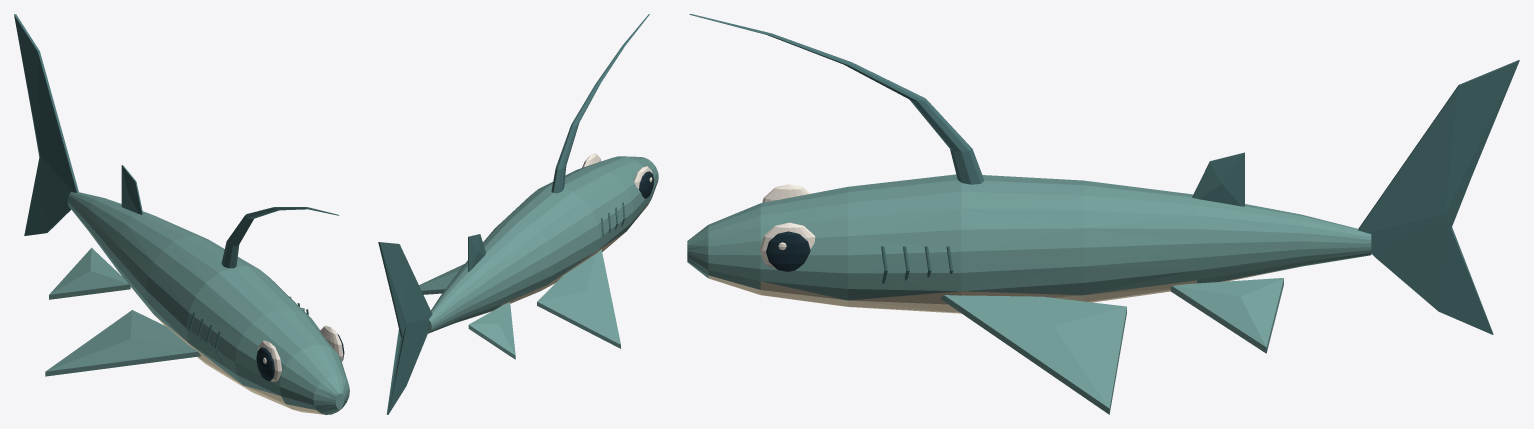
File: falcatus.glb
3 views of the same model, side by side, from view 1: azimuth 30°, elevation 25°; view 2: azimuth 150°, elevation 25°; view 3: azimuth 270°, elevation 25° (orthographic). The views are drawn at different scales.
Visible parts, largest first — view 1: fusiform-body, heterocercal-caudal, left-pectoral, left-pelvic, male-forward-sword-spine, posterior-dorsal, left-eye, right-eye-rim, left-eye-rim; view 2: fusiform-body, heterocercal-caudal, left-pectoral, left-pelvic, male-forward-sword-spine, right-pectoral, posterior-dorsal, left-eye; view 3: fusiform-body, heterocercal-caudal, right-pectoral, right-pelvic, male-forward-sword-spine, posterior-dorsal, right-eye.
Boxes of the visible parts, left/top/right/bottom form: fusiform-body: left=67, top=192, right=349, bottom=414; heterocercal-caudal: left=14, top=14, right=78, bottom=235; left-pectoral: left=45, top=310, right=201, bottom=376; left-pelvic: left=49, top=247, right=130, bottom=299; male-forward-sword-spine: left=221, top=207, right=339, bottom=268; posterior-dorsal: left=121, top=165, right=143, bottom=214; left-eye: left=256, top=347, right=274, bottom=381; right-eye-rim: left=320, top=325, right=343, bottom=362; left-eye-rim: left=257, top=340, right=281, bottom=381; fusiform-body: left=428, top=156, right=658, bottom=333; heterocercal-caudal: left=378, top=242, right=432, bottom=414; left-pectoral: left=537, top=249, right=620, bottom=348; left-pelvic: left=468, top=302, right=515, bottom=359; male-forward-sword-spine: left=551, top=14, right=649, bottom=193; right-pectoral: left=419, top=264, right=464, bottom=294; posterior-dorsal: left=468, top=234, right=485, bottom=271; left-eye: left=639, top=171, right=653, bottom=198; fusiform-body: left=687, top=174, right=1371, bottom=313; heterocercal-caudal: left=1358, top=60, right=1519, bottom=334; right-pectoral: left=940, top=295, right=1126, bottom=414; right-pelvic: left=1170, top=278, right=1283, bottom=353; male-forward-sword-spine: left=689, top=14, right=984, bottom=184; posterior-dorsal: left=1192, top=152, right=1244, bottom=206; right-eye: left=766, top=231, right=810, bottom=271.
Bounding box in the file's own units: 0.1232 × 0.1134 × 0.2671.
